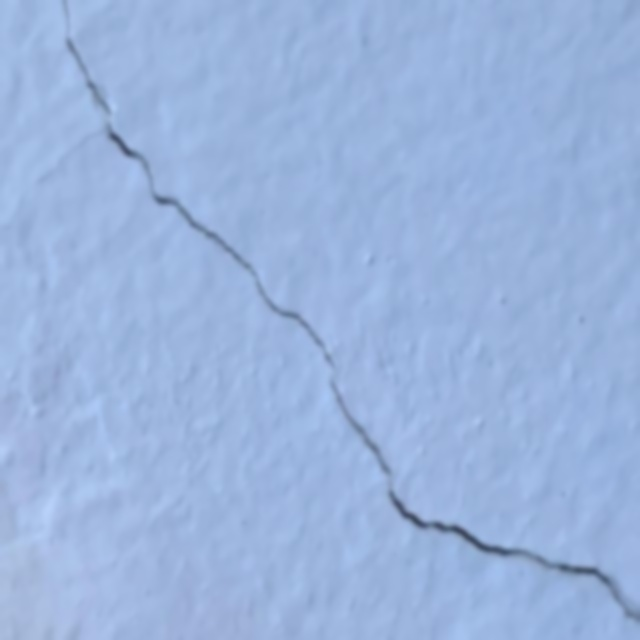SurfaceCrack: (10, 1, 638, 640)
